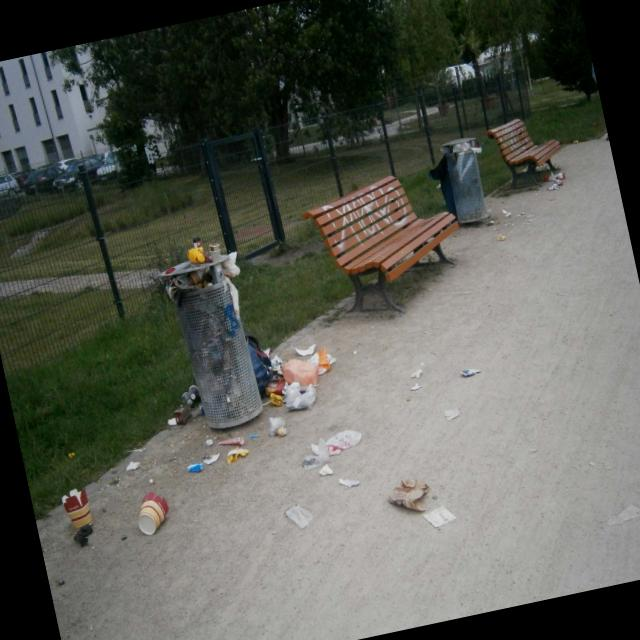garbage: (2, 200, 384, 578)
